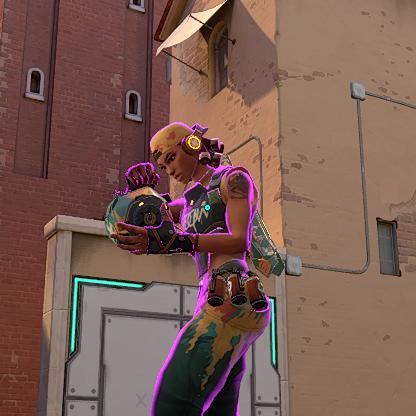enemyBody: (195, 190, 258, 287)
enemyHead: (157, 134, 209, 179)
